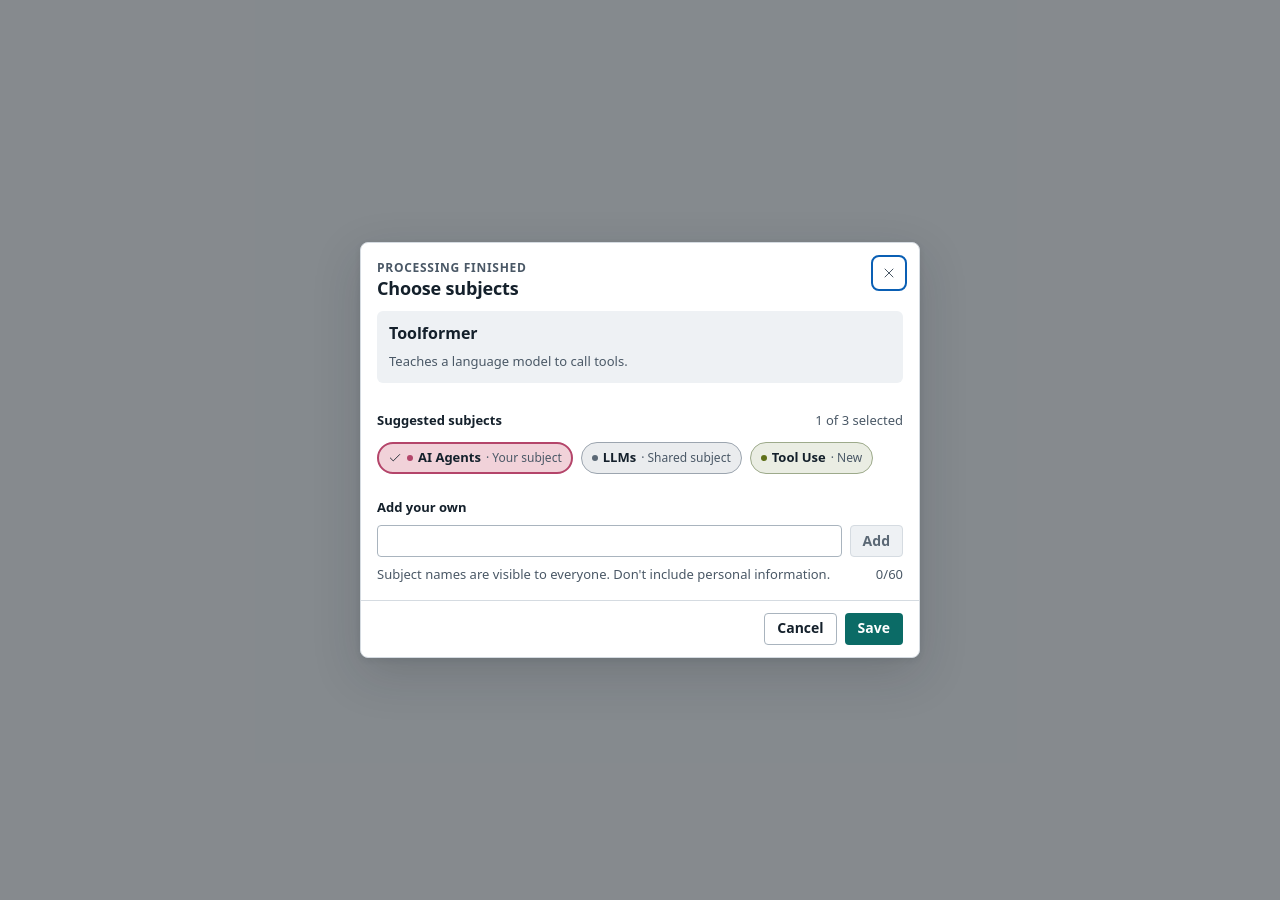
Test: SubjectPicker › shows only the generic message when the error has no server detail
Click the button "Save": [874, 629] box [845,613,903,645]
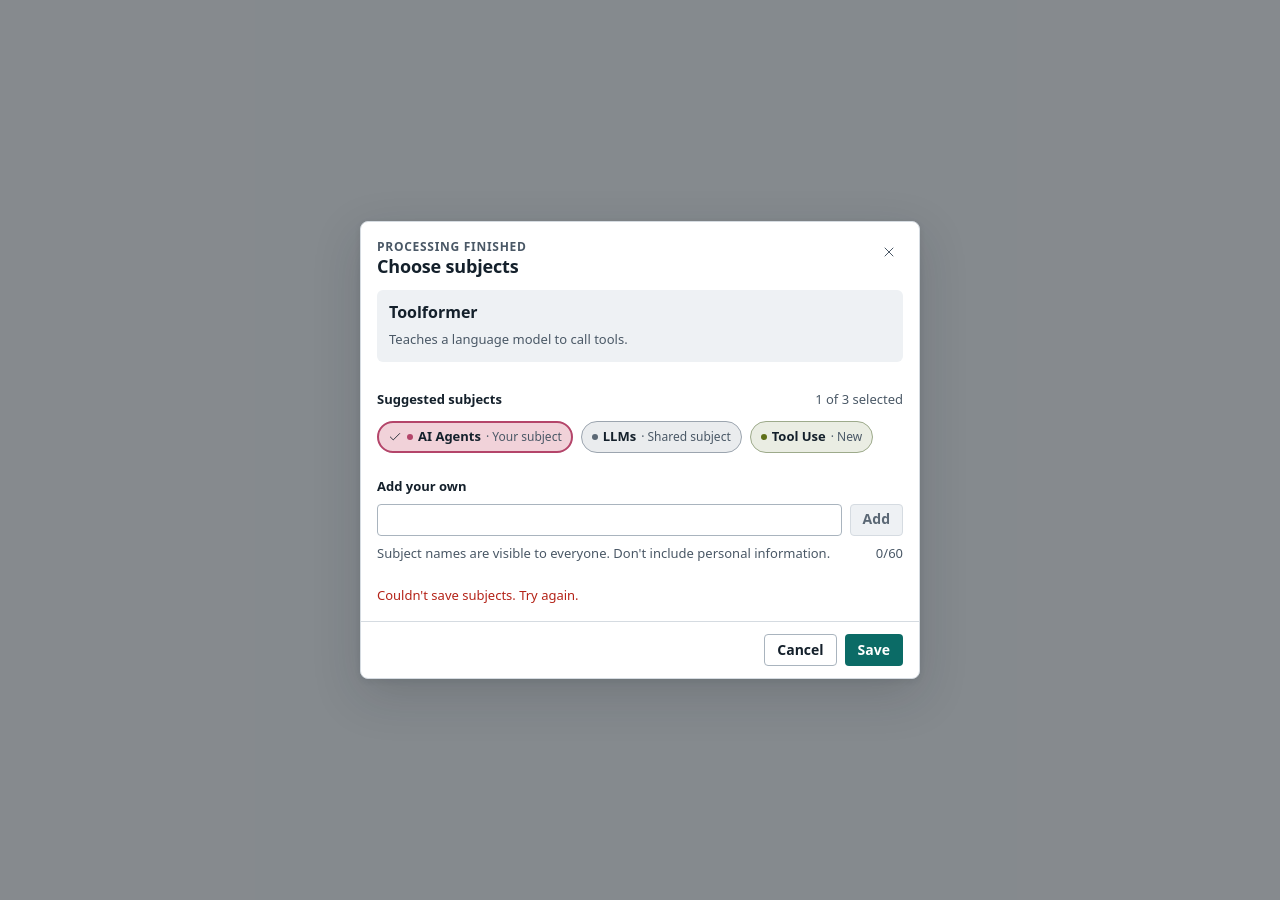
Expected: the message reads "Couldn't save subjects. Try again.", [377,586,579,604]
